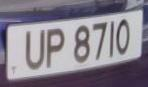0: (115, 16, 132, 61)
1: (108, 17, 118, 64)
7: (92, 18, 110, 66)
8: (72, 20, 93, 70)
P: (45, 25, 68, 70)
U: (24, 27, 46, 72)
